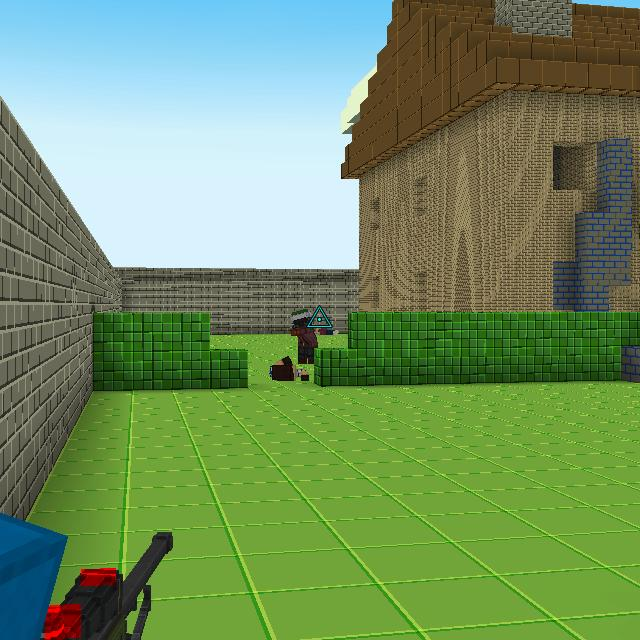enemy: (290, 308, 319, 366)
